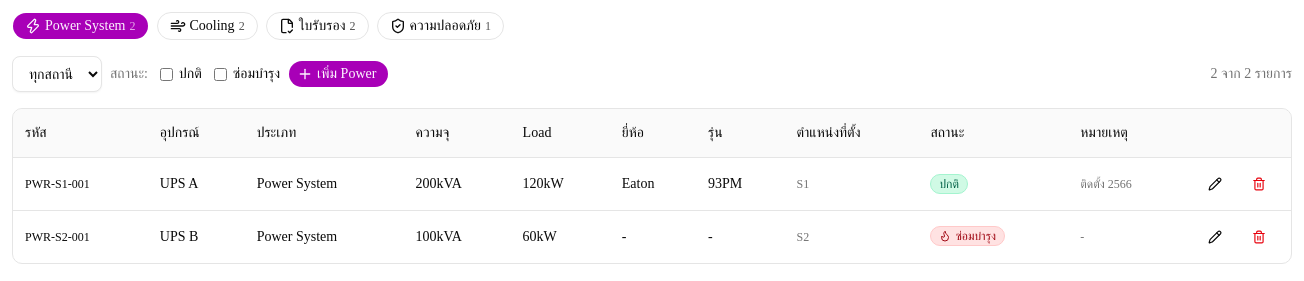
Test case: EngineeringClient — tabs & power filters › filters power by status checkbox and clears the filter
Click the checkbox labelled "ซ่อมบำรุง": (220, 74) top-left (214, 68), bottom-right (227, 80)
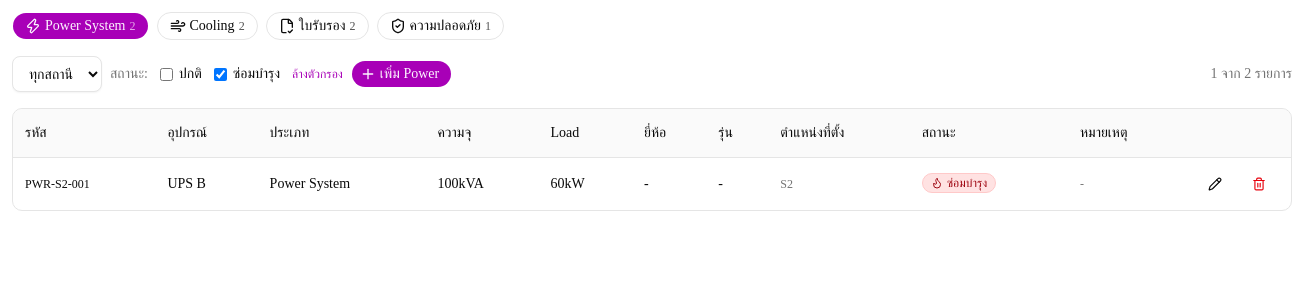
Expected: the text "UPS B" is shown, top-left (155, 157), bottom-right (258, 210)
Expected: the text "UPS A" is gone
Click the button "ล้างตัวกรอง": (318, 74) top-left (292, 66), bottom-right (343, 82)
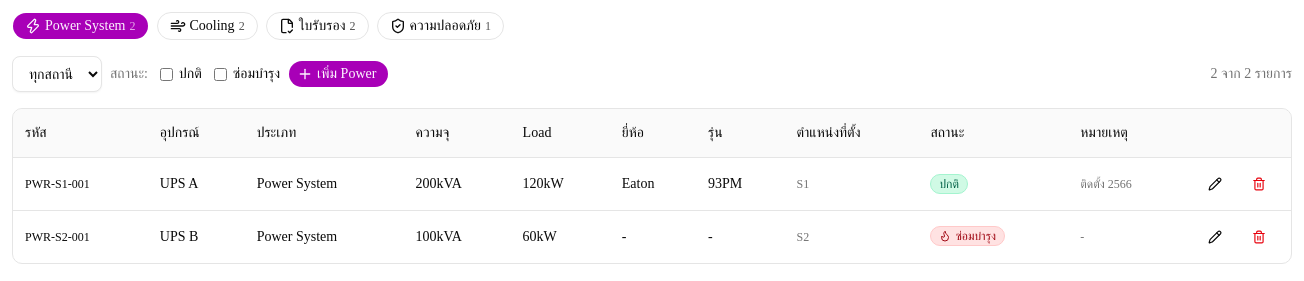
Expected: the text "UPS A" is shown, top-left (148, 157), bottom-right (245, 210)
